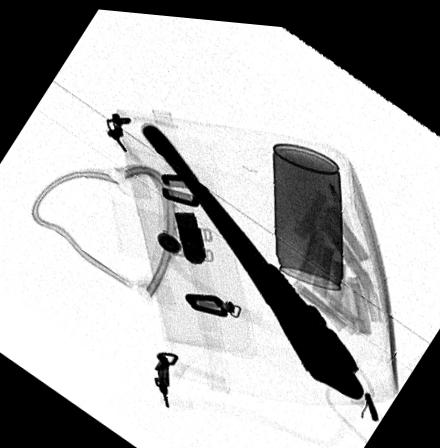Wrench: (140, 121, 366, 396)
